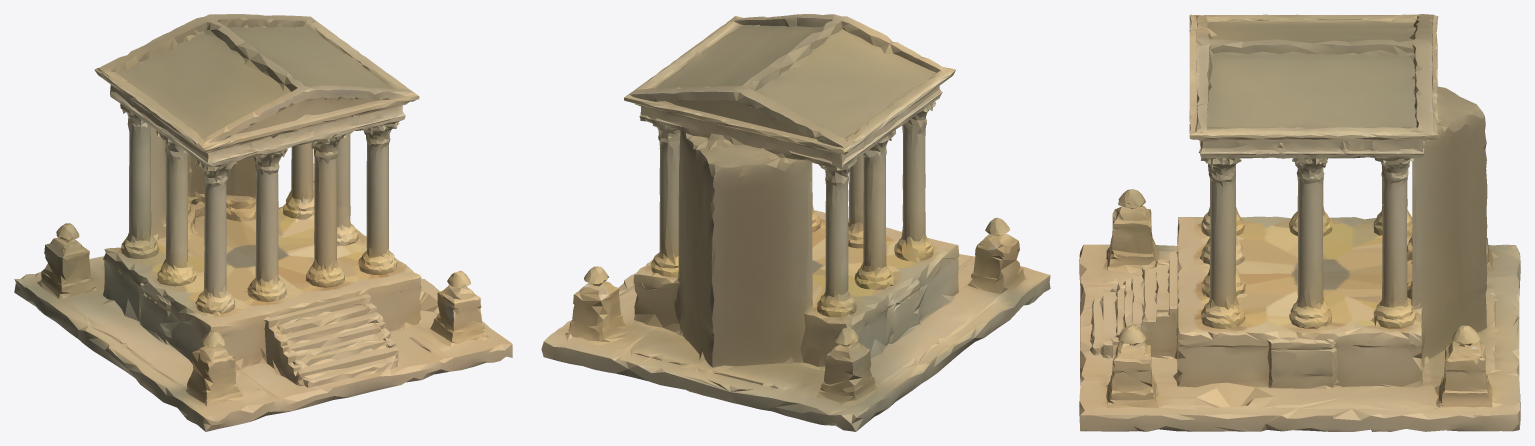
Rendered from temple.glb.
3 views of the same model, side by side, from view 1: azimuth 30°, elevation 25°; view 2: azimuth 150°, elevation 25°; view 3: azimuth 270°, elevation 25° (orthographic). The views are drawn at different scales.
Visible parts, largest first — view 1: Temple; view 2: Temple; view 3: Temple.
Part boxes in pixels (x1,y1,x2,y2): Temple: (14, 14, 512, 431); Temple: (541, 14, 1050, 431); Temple: (1079, 14, 1520, 431).
Size of the model in its own units: 1.74 by 1.44 by 1.89.
1 material, 1 textured.
